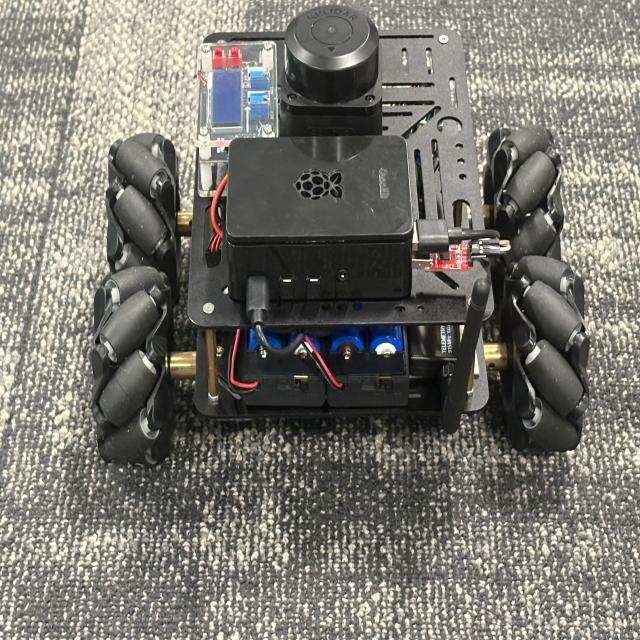ArduinoCar3: (91, 4, 588, 470)
